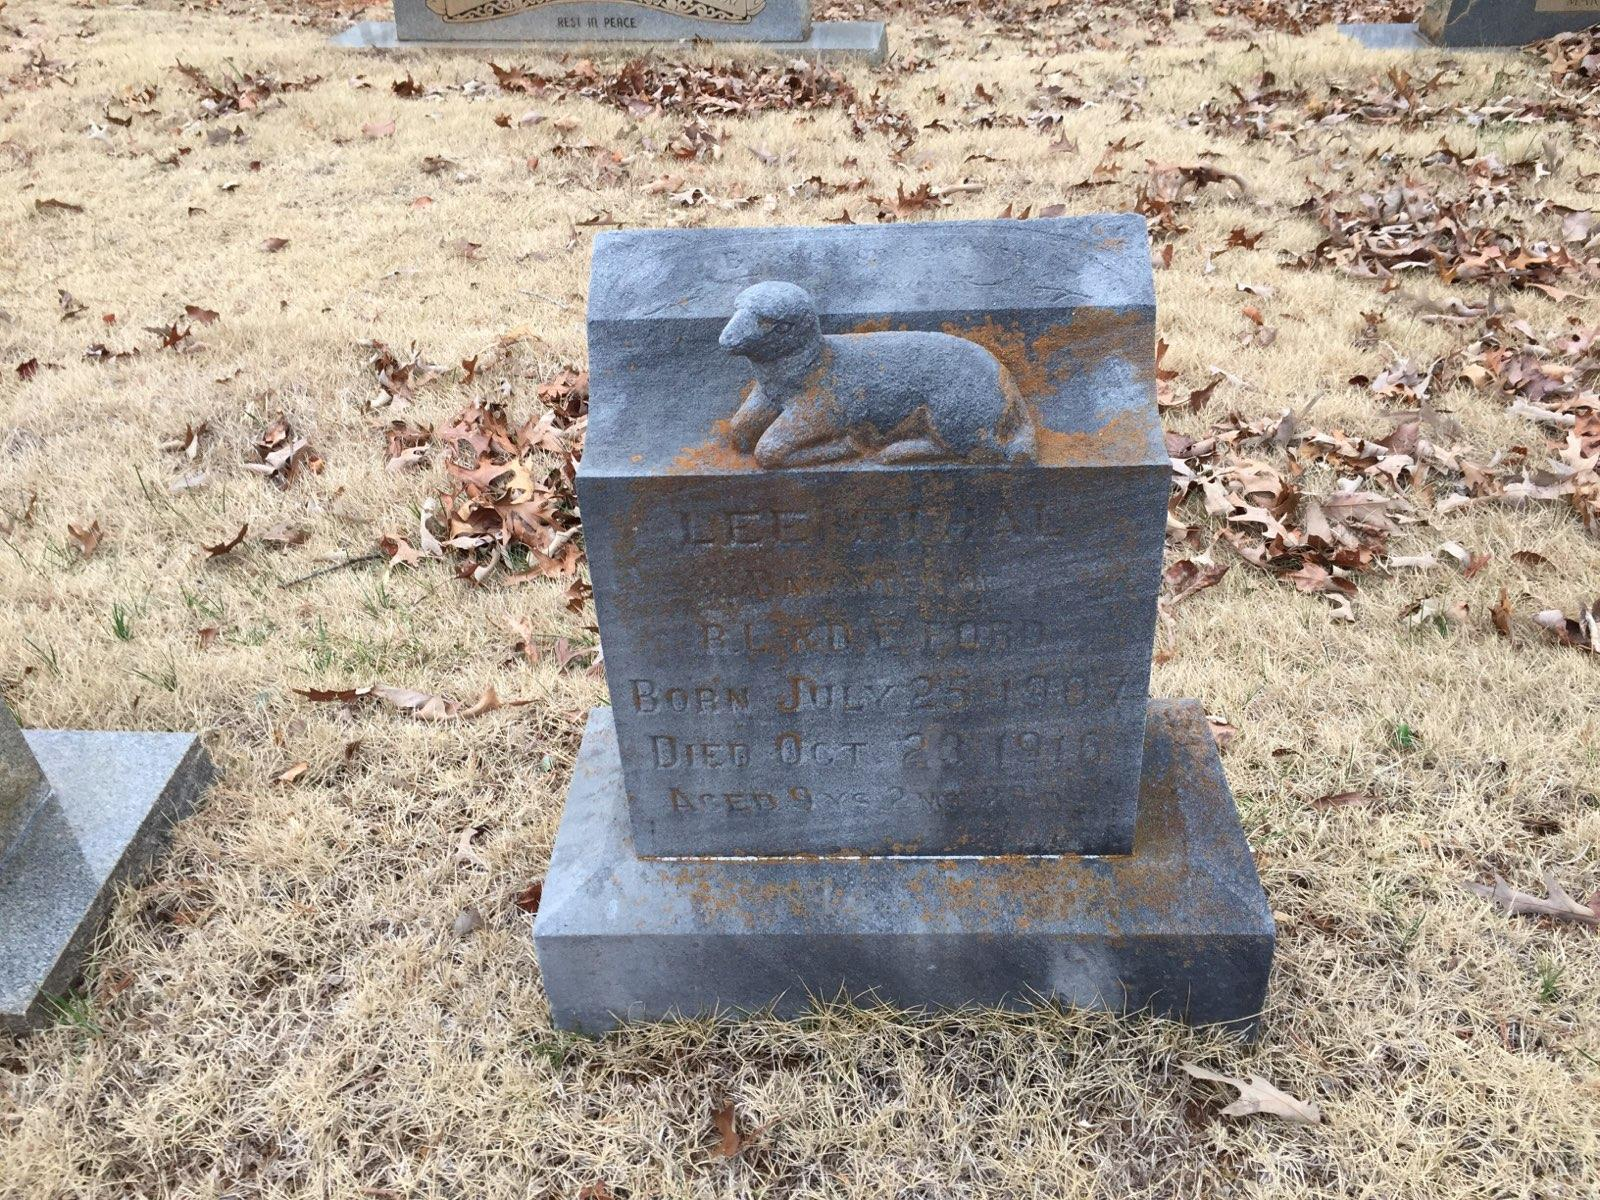upright: (569, 213, 1173, 846)
